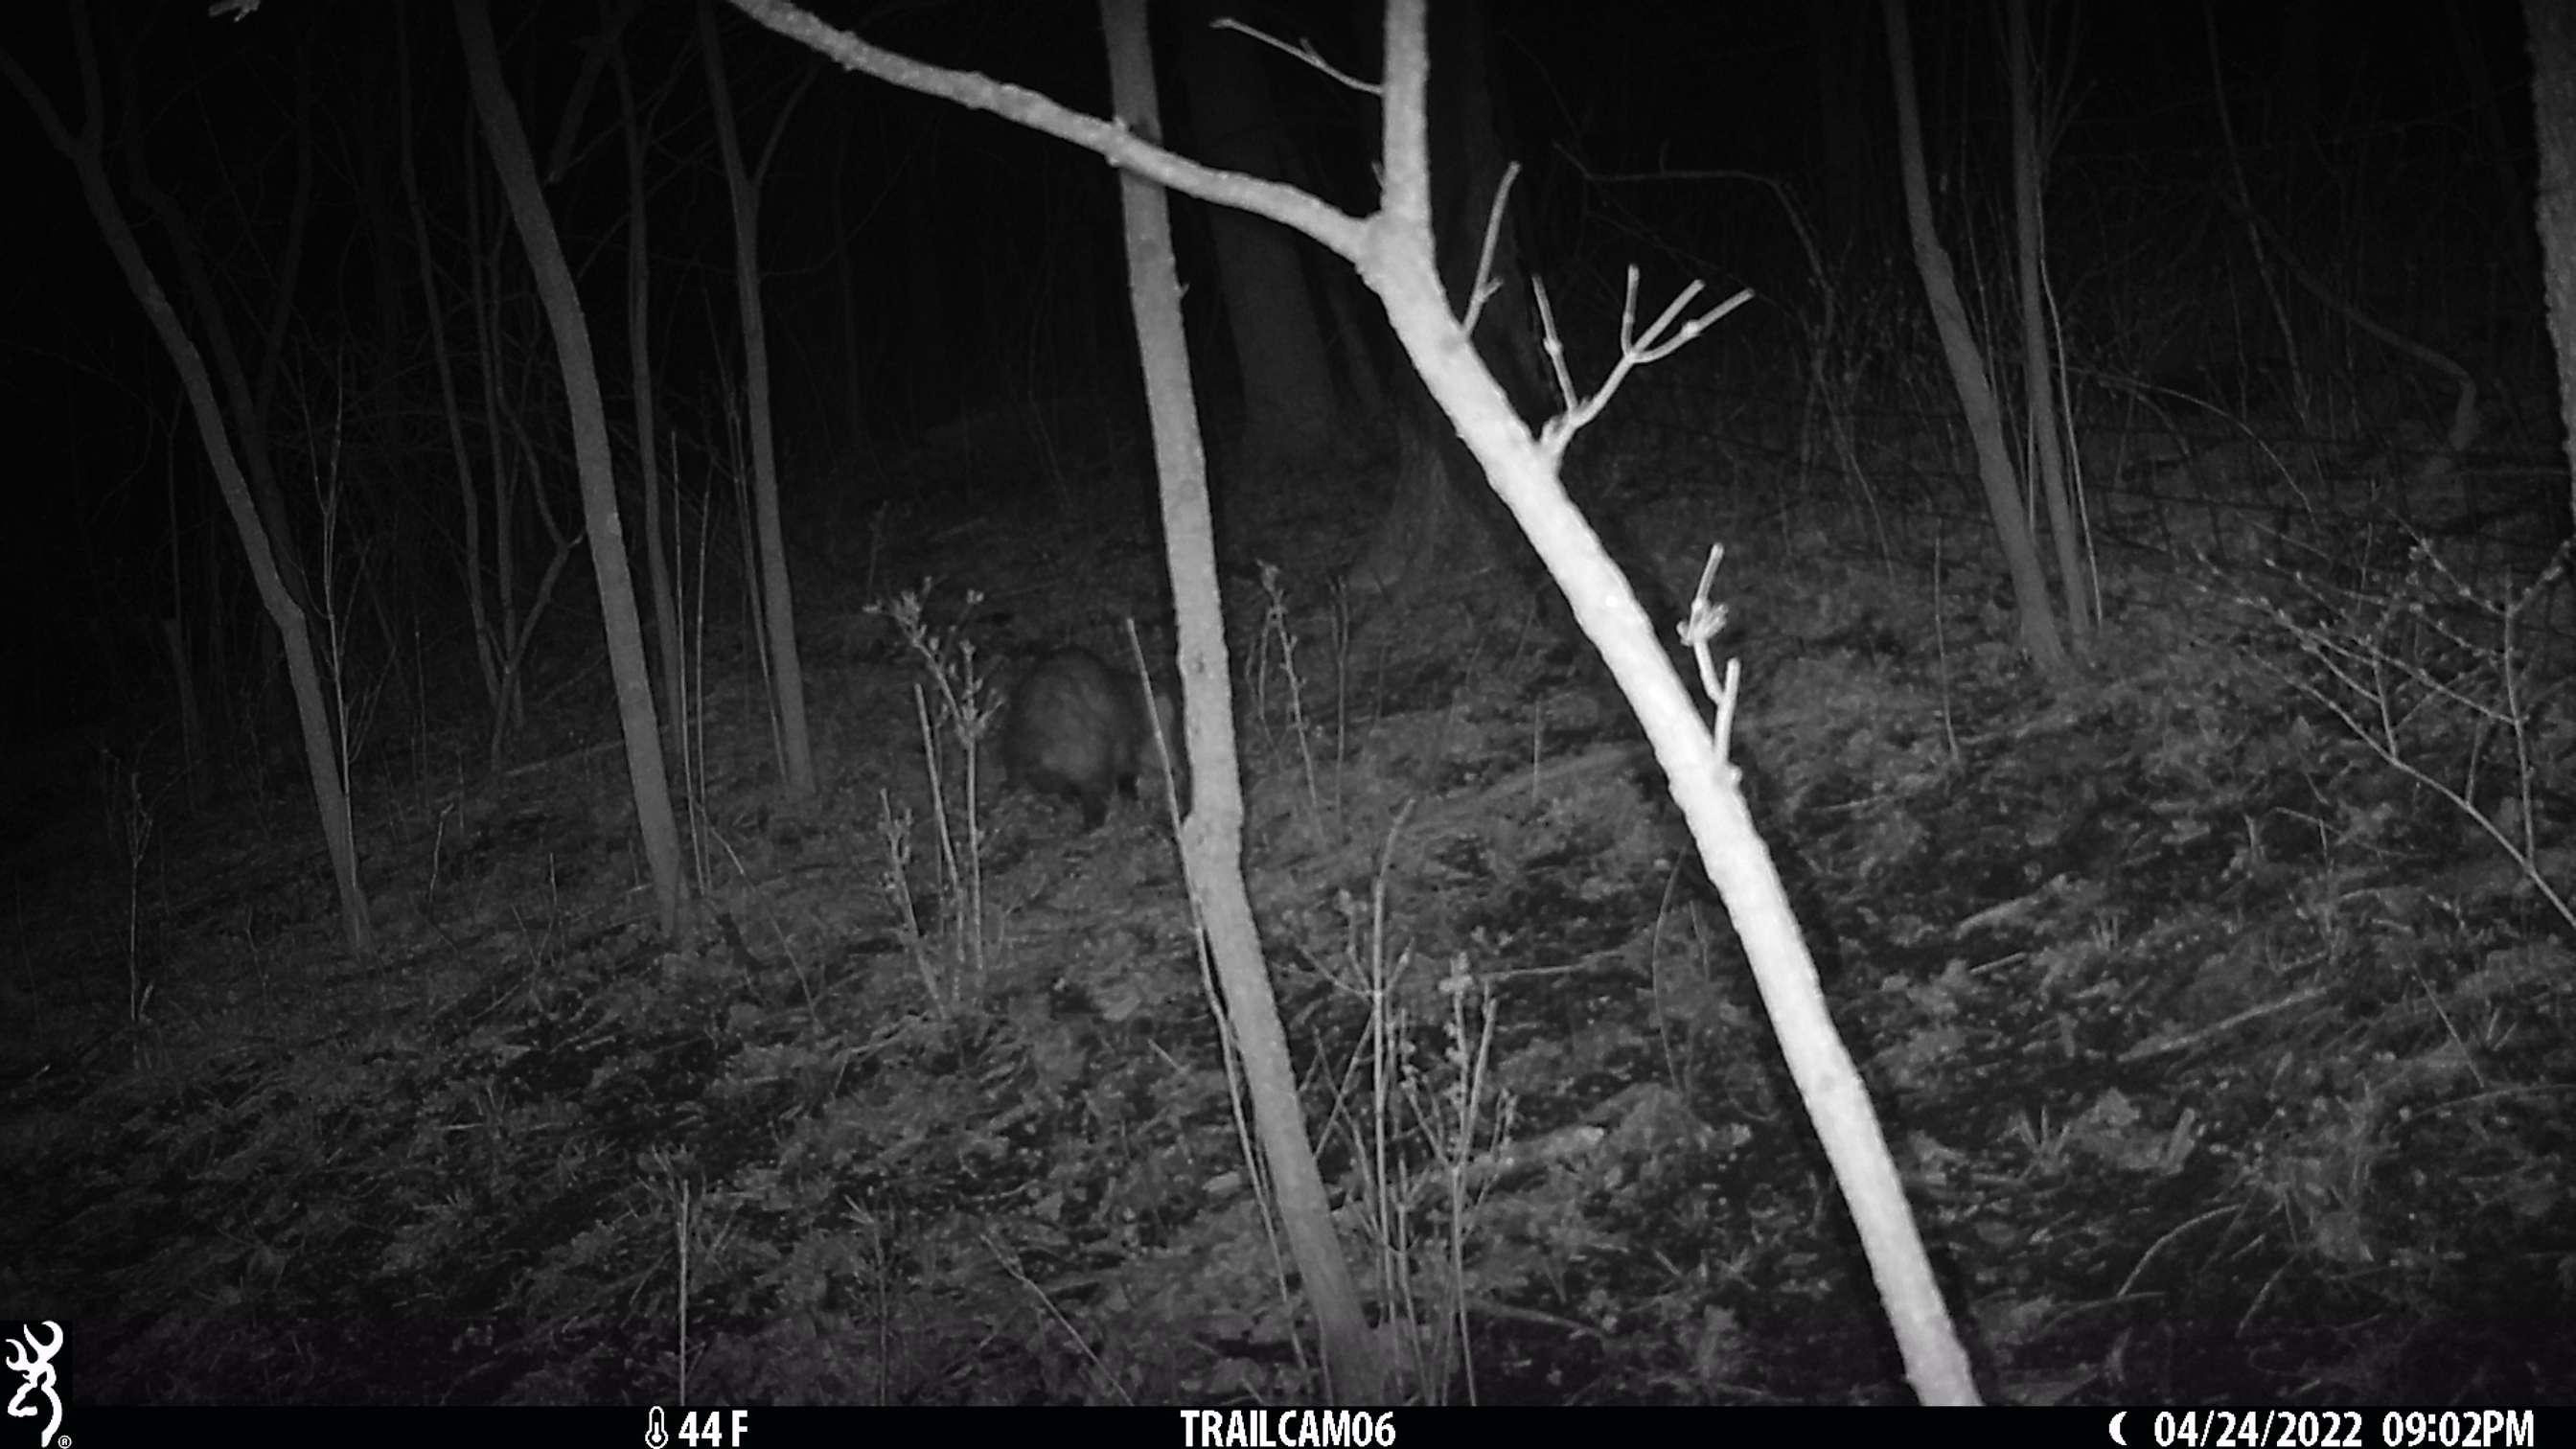Possum: (996, 640, 1178, 826)
